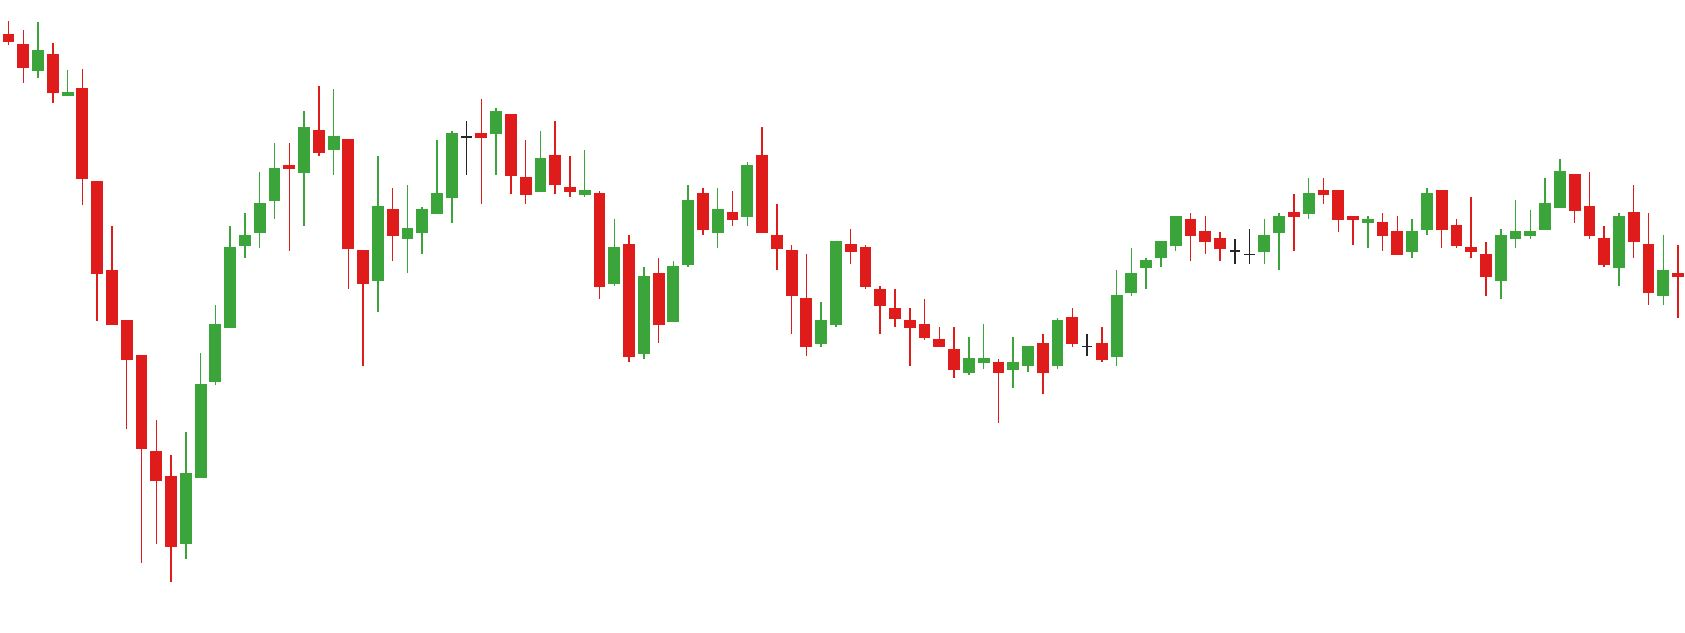sell: (1418, 156, 1583, 255)
